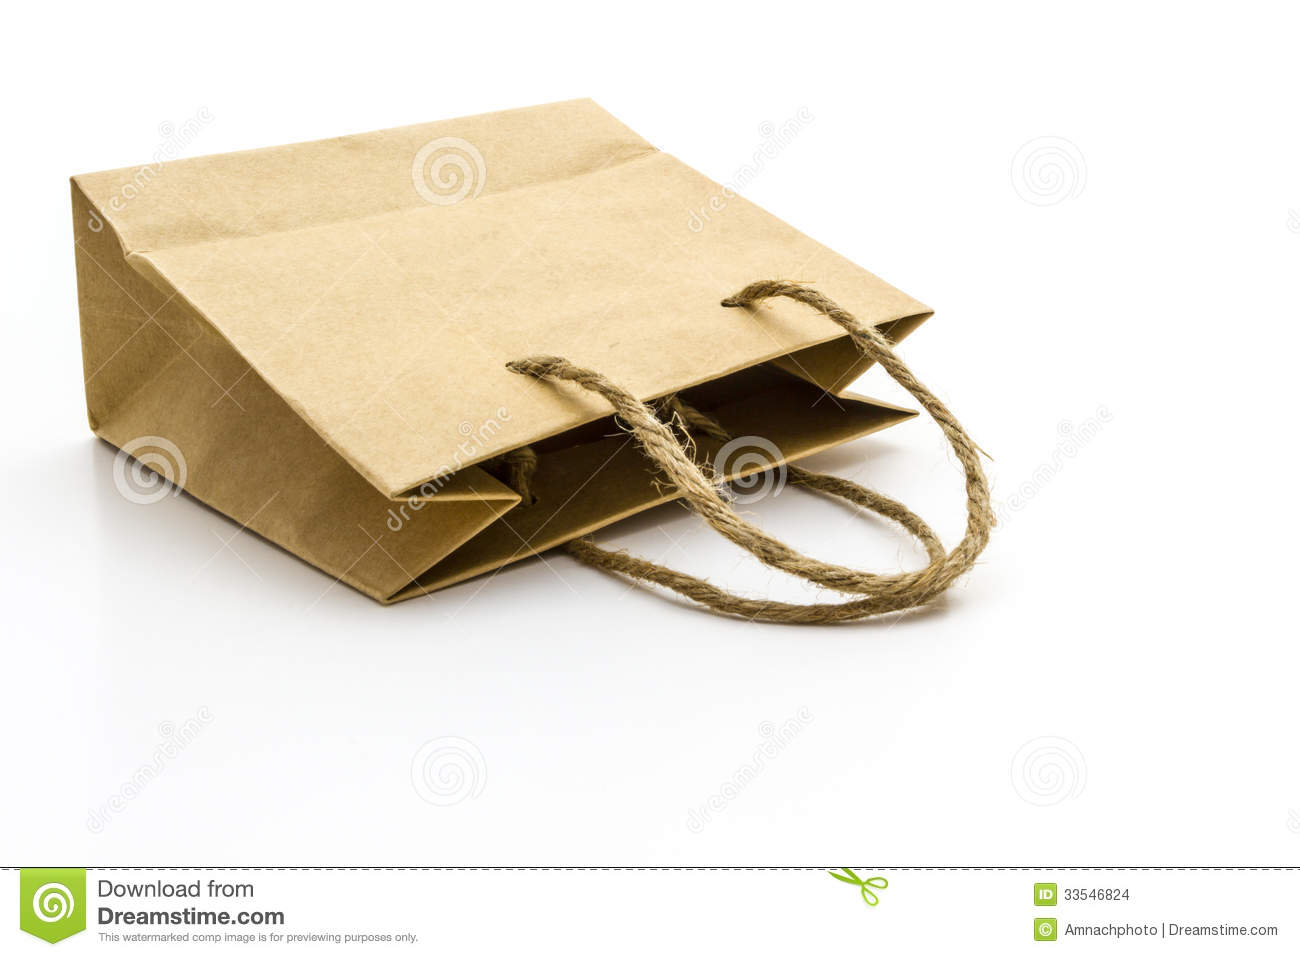flexible: (58, 92, 993, 642)
